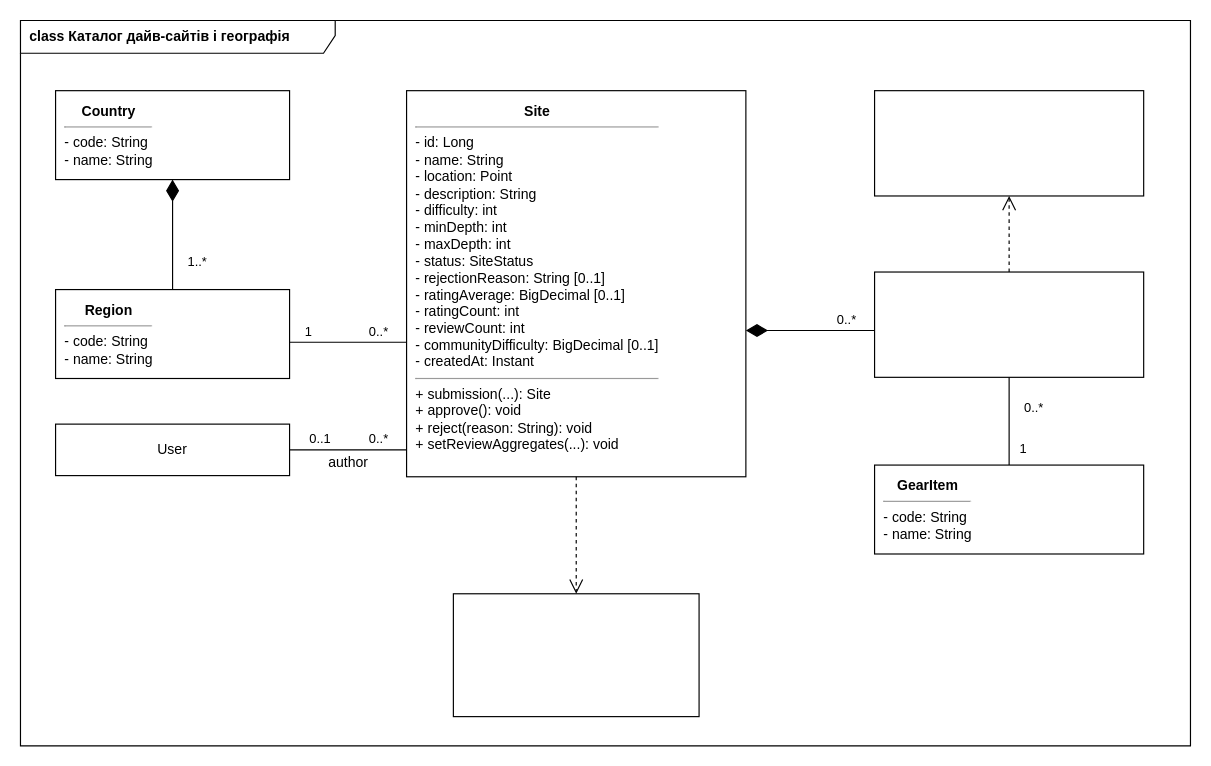
This 1211x766 diagram has some shape labels left out. Each missing label, with the centre of its shape:
«embeddable» SiteGear - gearCode: String - requirement: GearRequirement: pixel 1008 324
«enumeration» GearRequirement REQUIRED RECOMMENDED: pixel 1008 143
«enumeration» SiteStatus PENDING APPROVED REJECTED: pixel 575 655
